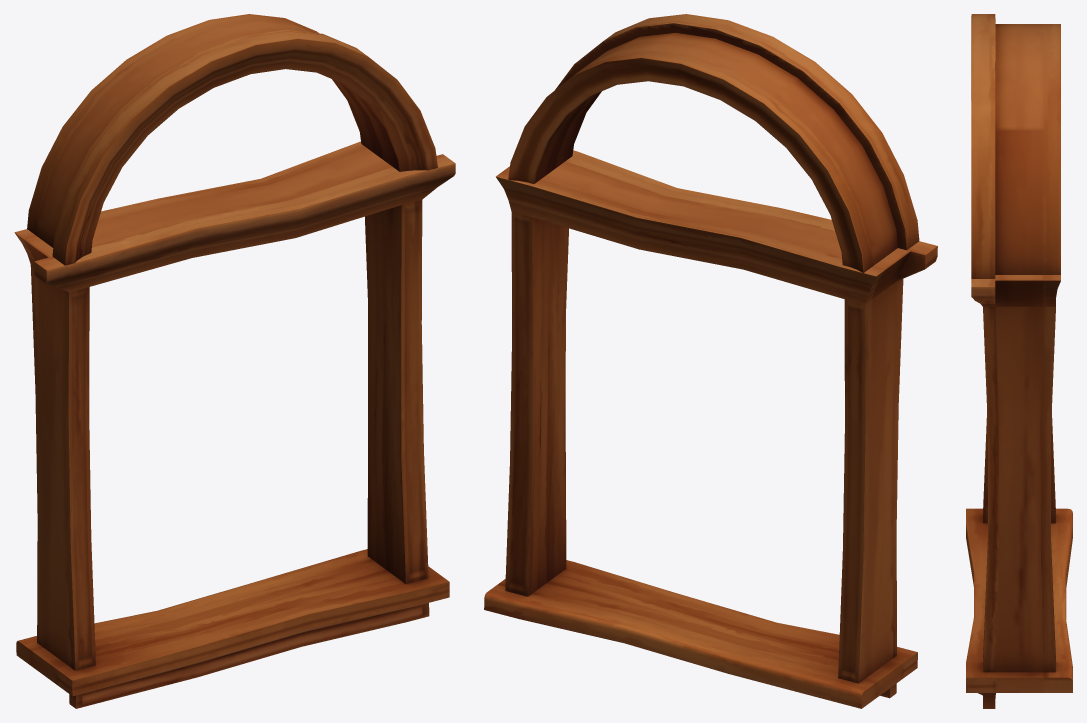
Rendered from PropWindow01TypeH_1_1.FBX.
The picture shows the model from 3 angles, left to right: view 1: azimuth 30°, elevation 25°; view 2: azimuth 150°, elevation 25°; view 3: azimuth 270°, elevation 25°; orthographic projection. The views are drawn at different scales.
Parts seen in each view (by area): view 1: PropWindow01TypeH_1_1; view 2: PropWindow01TypeH_1_1; view 3: PropWindow01TypeH_1_1.
Part boxes in pixels (x1,y1,x2,y2): PropWindow01TypeH_1_1: (14,14,455,708); PropWindow01TypeH_1_1: (484,14,937,708); PropWindow01TypeH_1_1: (966,14,1072,708).
Size of what is drawn, in the model's own units: 1.88 by 2.75 by 0.4449.
